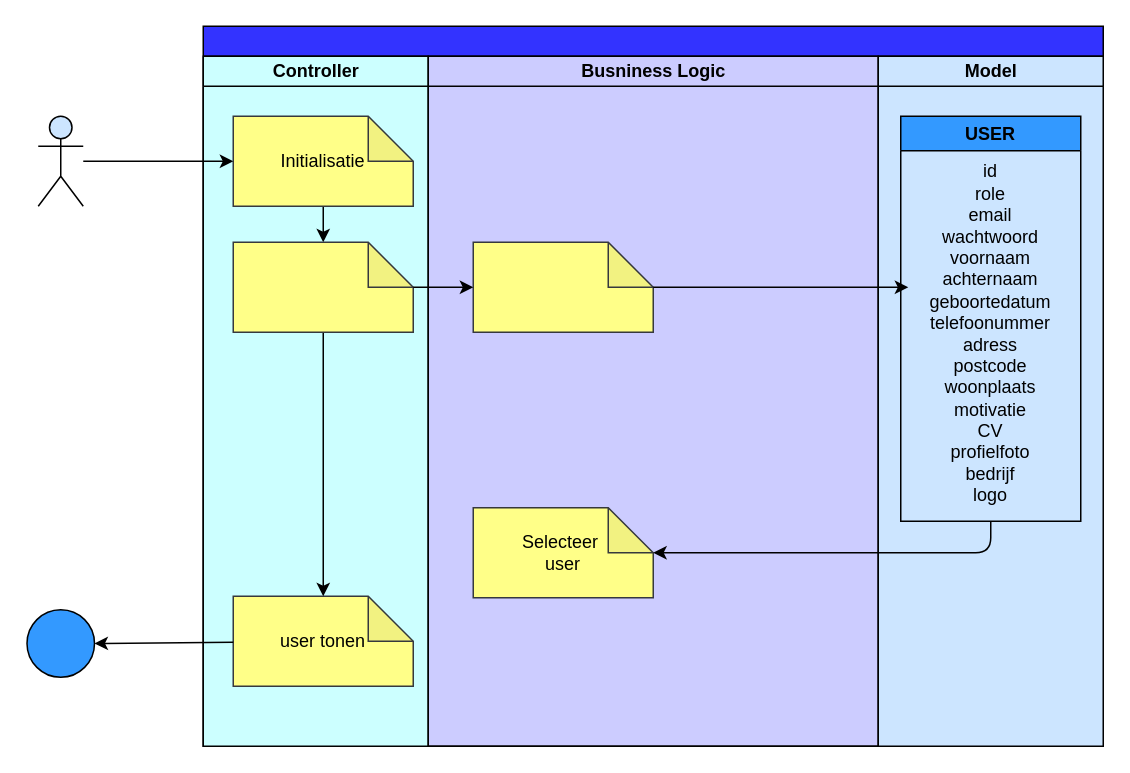
Image size: 1130x773. Some labels were removed from this diagram. Here are the shapes that lost their labels. From the top down, the centre of each, then its label:
At pixel 60 160: "Actor".
At pixel 322 286: "registreren/ bijwerken".
At pixel 562 286: "toevoegen/bijwerken user".
